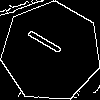I: (26, 26, 72, 61)
